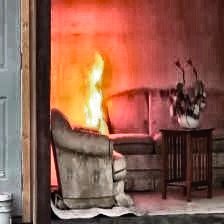fire: (81, 51, 110, 133)
